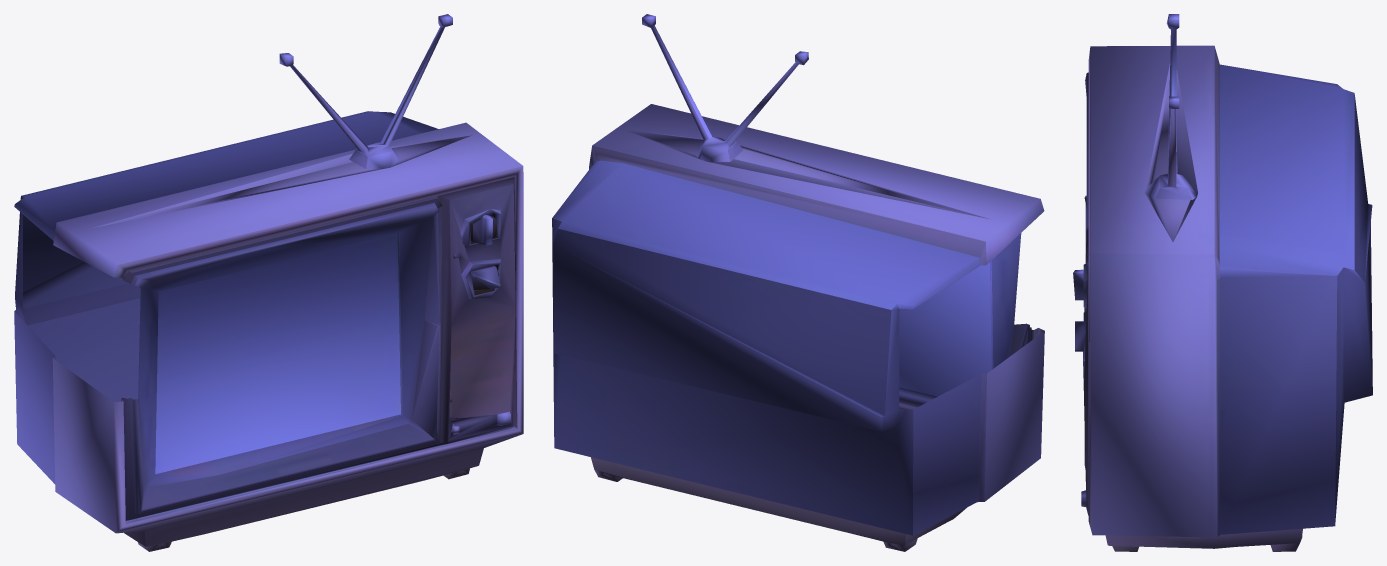
The model's file is model.progressive.glb.
3 views of the same model, side by side, from view 1: azimuth 30°, elevation 25°; view 2: azimuth 150°, elevation 25°; view 3: azimuth 270°, elevation 25° (orthographic). The views are drawn at different scales.
Visible parts, largest first — view 1: mesh_input; view 2: mesh_input; view 3: mesh_input.
Part boxes in pixels (box(x1,y1,x2,y2)): mesh_input: box(14, 14, 523, 551); mesh_input: box(552, 14, 1044, 551); mesh_input: box(1073, 14, 1372, 551).
Bounding box in the file's own units: 1.87 × 1.88 × 1.12.
1 material, 1 textured.
